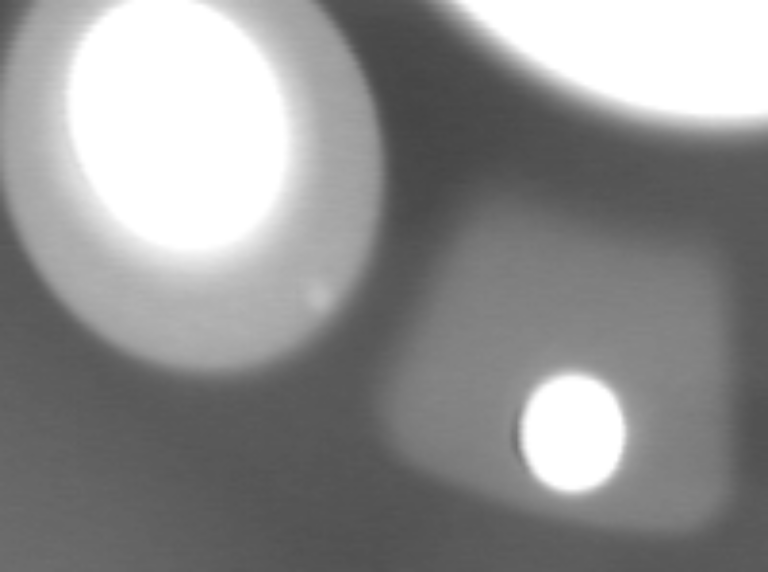defect: (303, 282, 342, 327)
